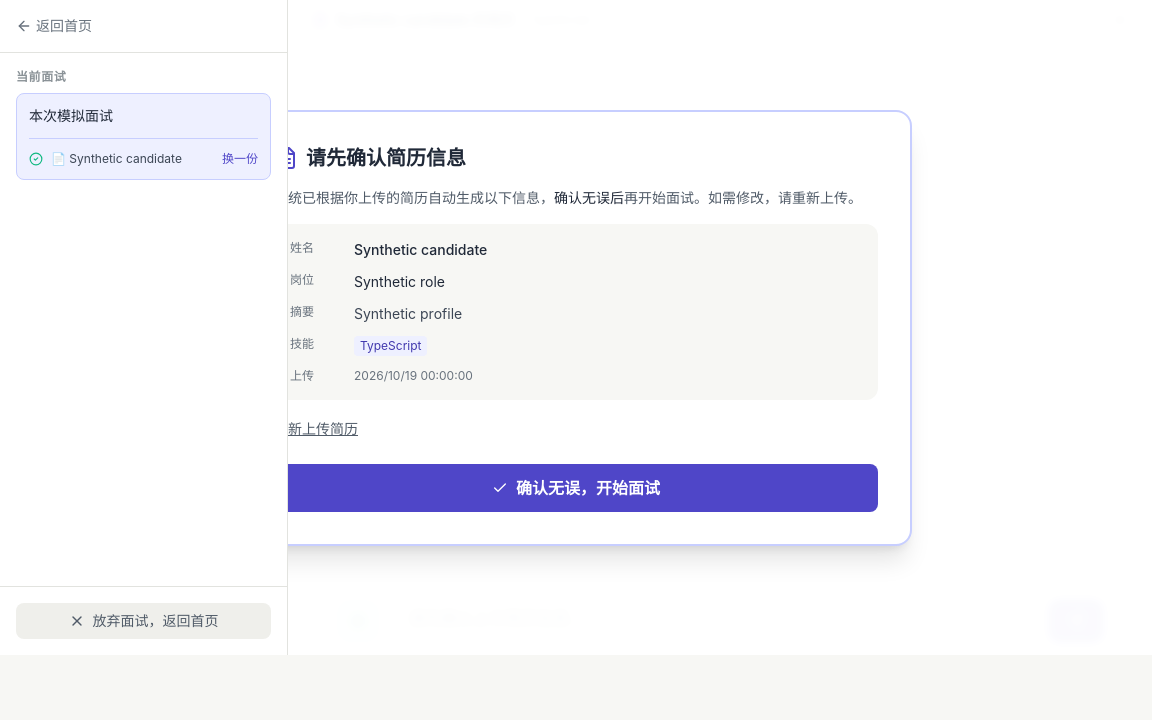
Test: Interview resume confirmation receipt › keeps the interview locked on server error and displays a recoverable error
Step 1. Click the button "确认无误，开始面试" → click(576, 488), box [274, 464, 878, 512]
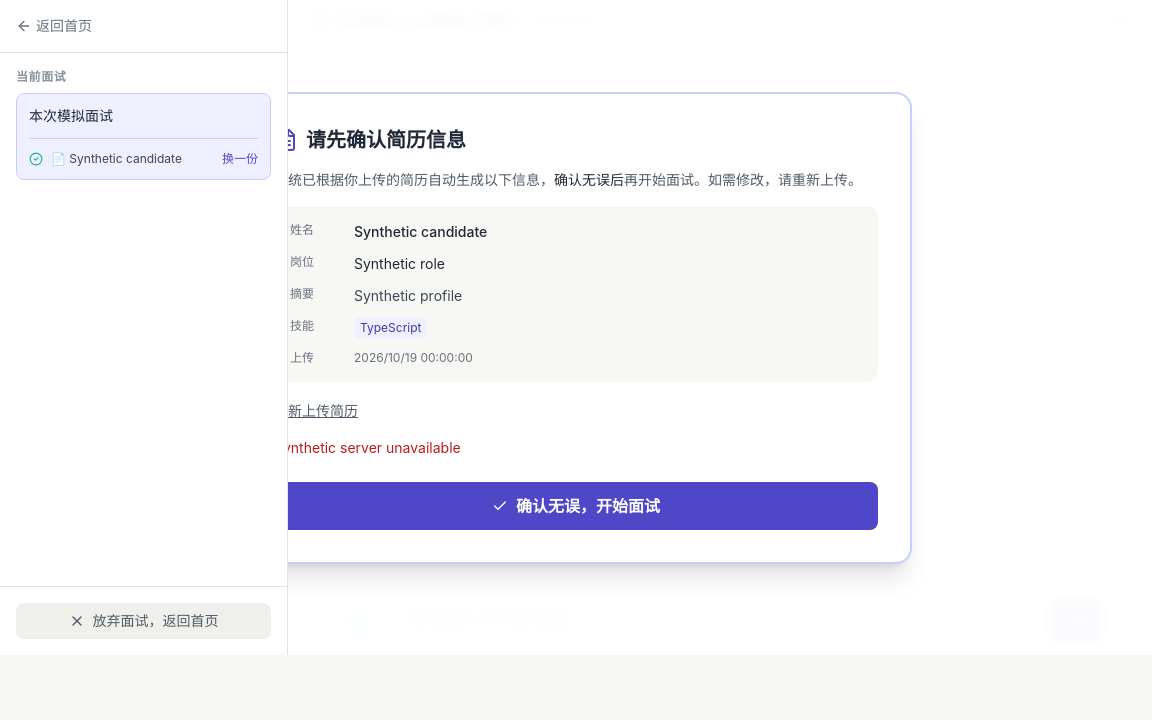
Expected: the button "确认无误，开始面试" is enabled, [274, 482, 878, 530]
Now the message reads "Synthetic server unavailable", box [274, 438, 461, 456]
